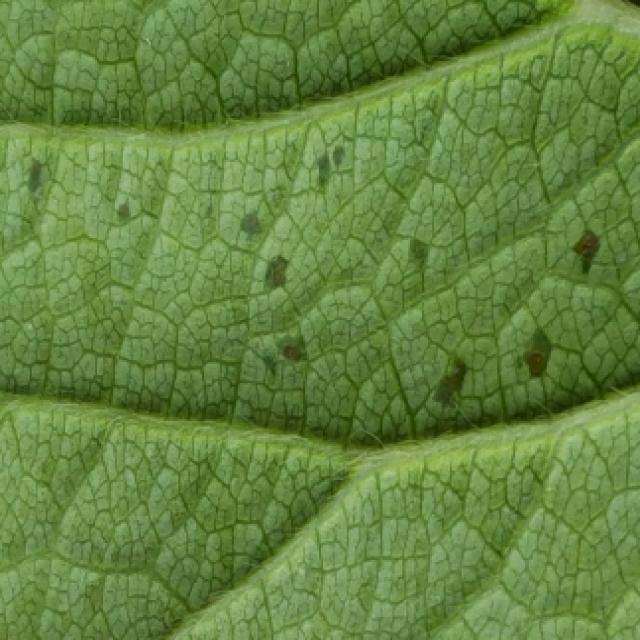Angular Leafspot: (0, 98, 631, 592)
